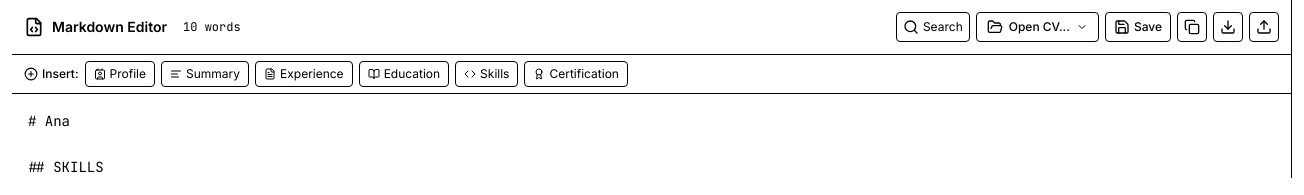
Test case: MarkdownEditor when a section is added › says that the block went into the section that was already there
Click the button "Skills" at (487, 74), box x1=455 y1=61 x2=518 y2=87
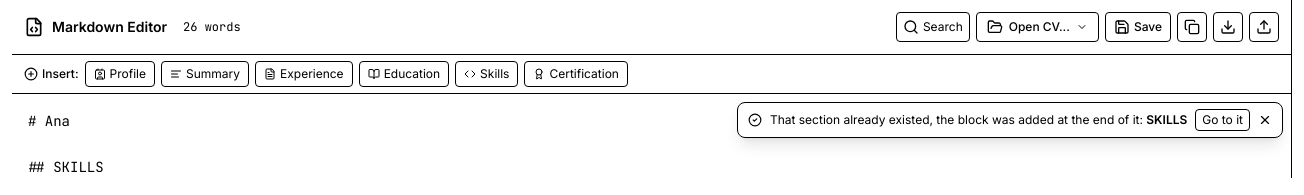
Expected: the message with test id "snippet-notice" shows "That section already existed, the block was added at the end of it:", x1=770 y1=112 x2=1143 y2=127
Expected: the message with test id "snippet-notice" shows "SKILLS", x1=1146 y1=112 x2=1187 y2=127
